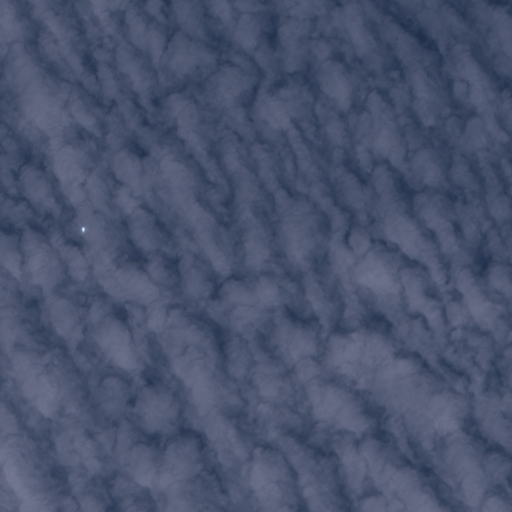Iceberg: (82, 227, 84, 232)
